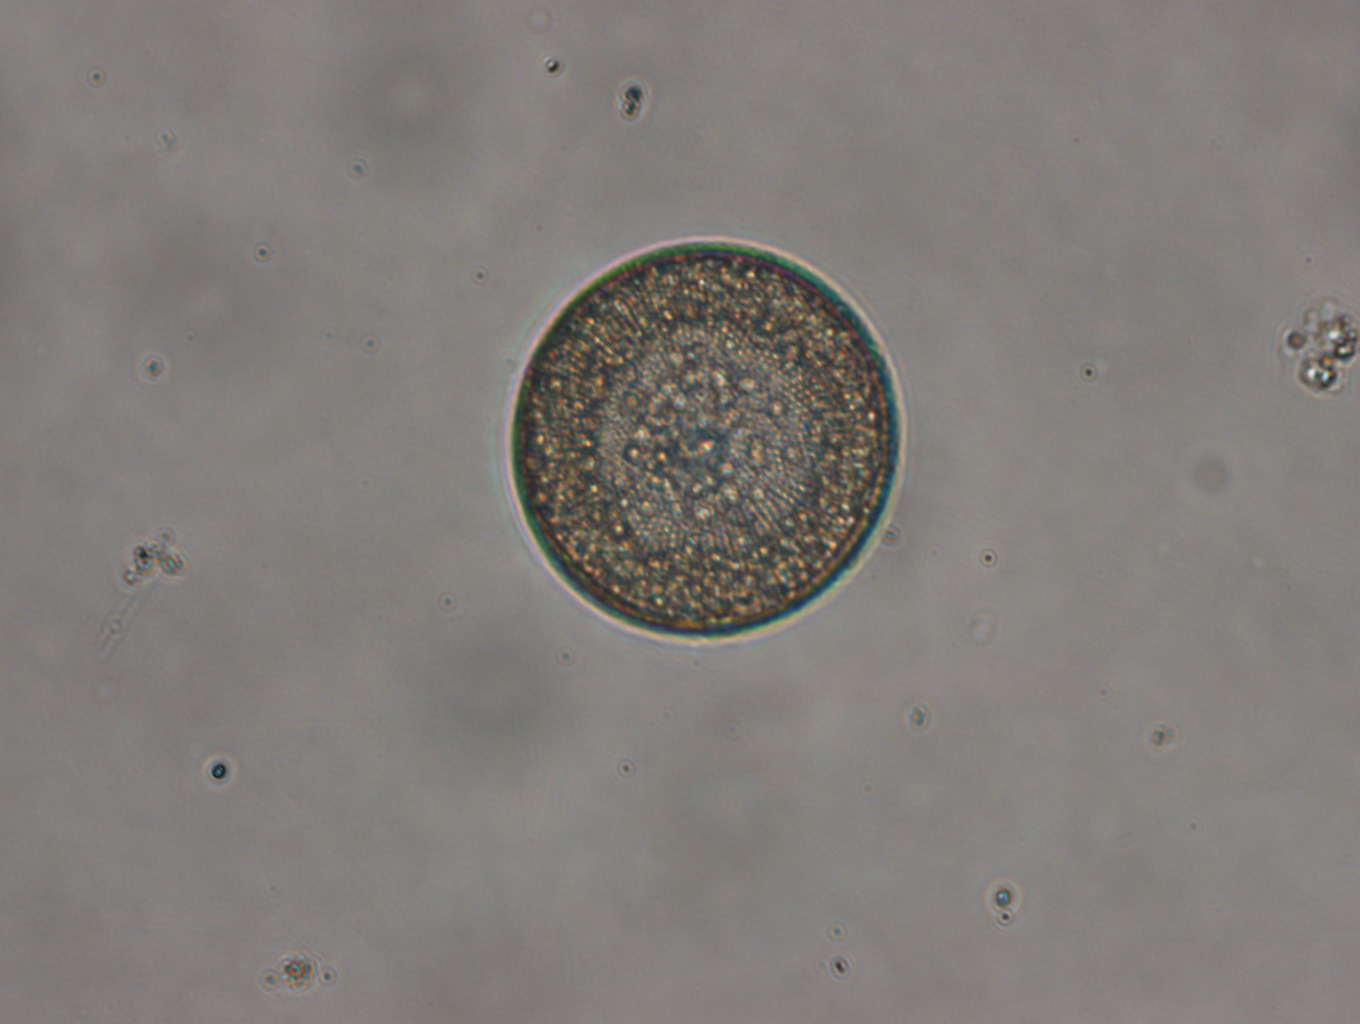coscinodiscus: (503, 237, 908, 645)
